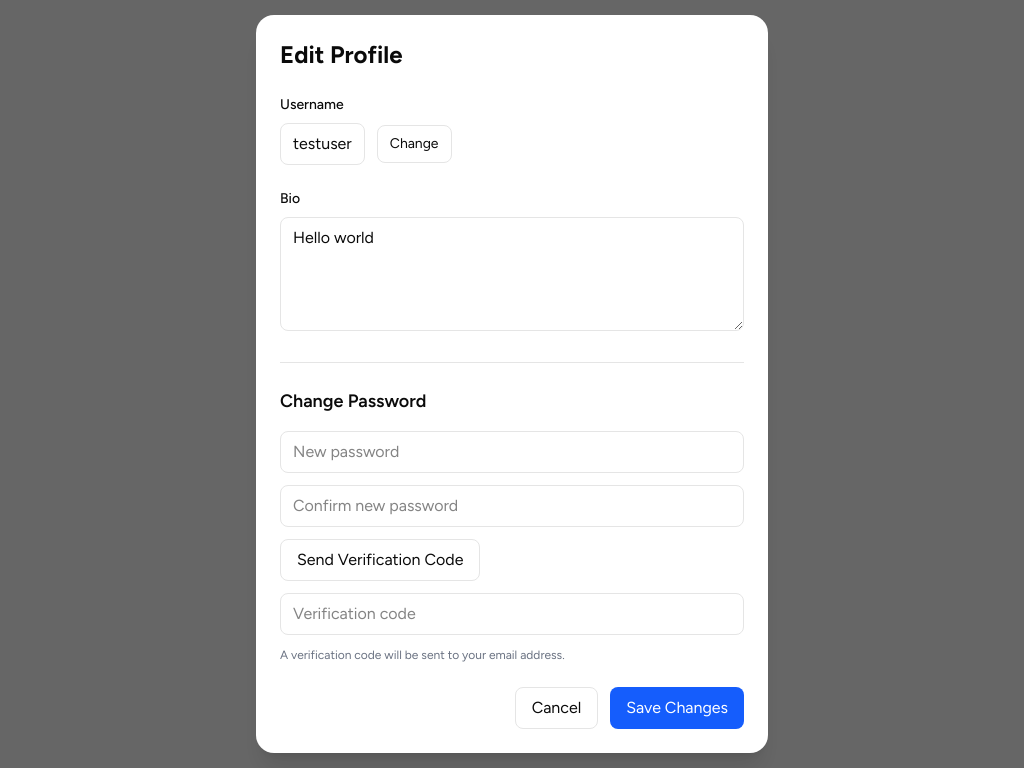
Test: EditProfileModal submit › requires verification code when changing password
In the password field with placeholder "New password": (512, 452) x1=280 y1=431 x2=744 y2=473, type "password123"
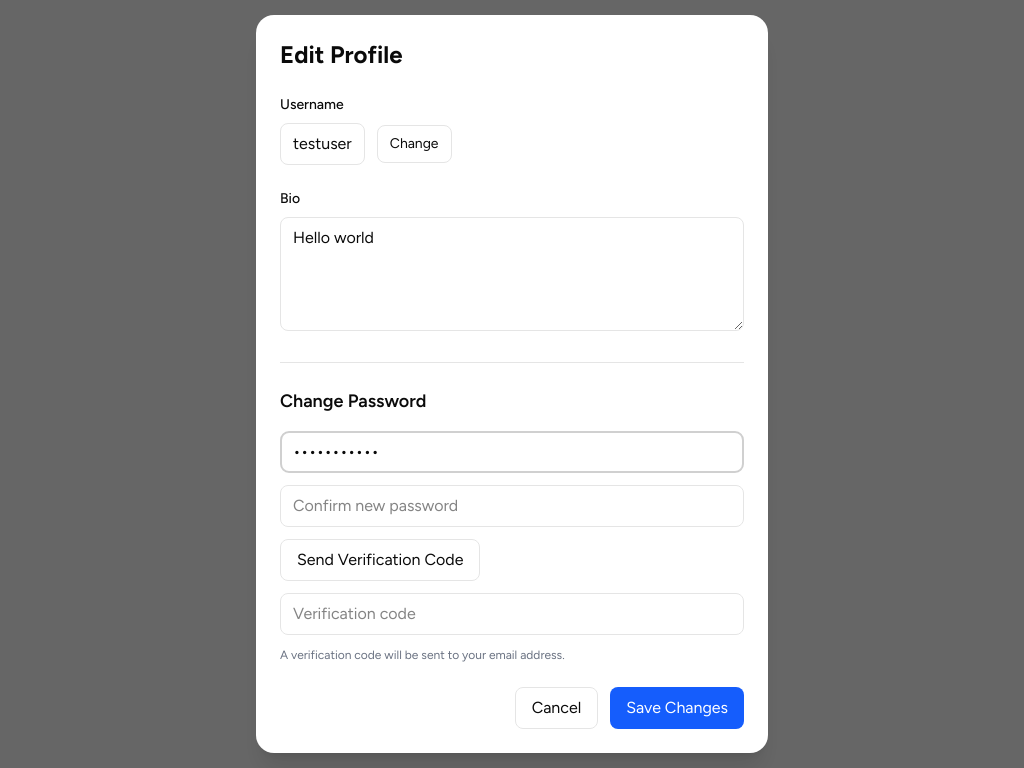
In the password field with placeholder "Confirm new password": (512, 506) x1=280 y1=485 x2=744 y2=527, type "password123"
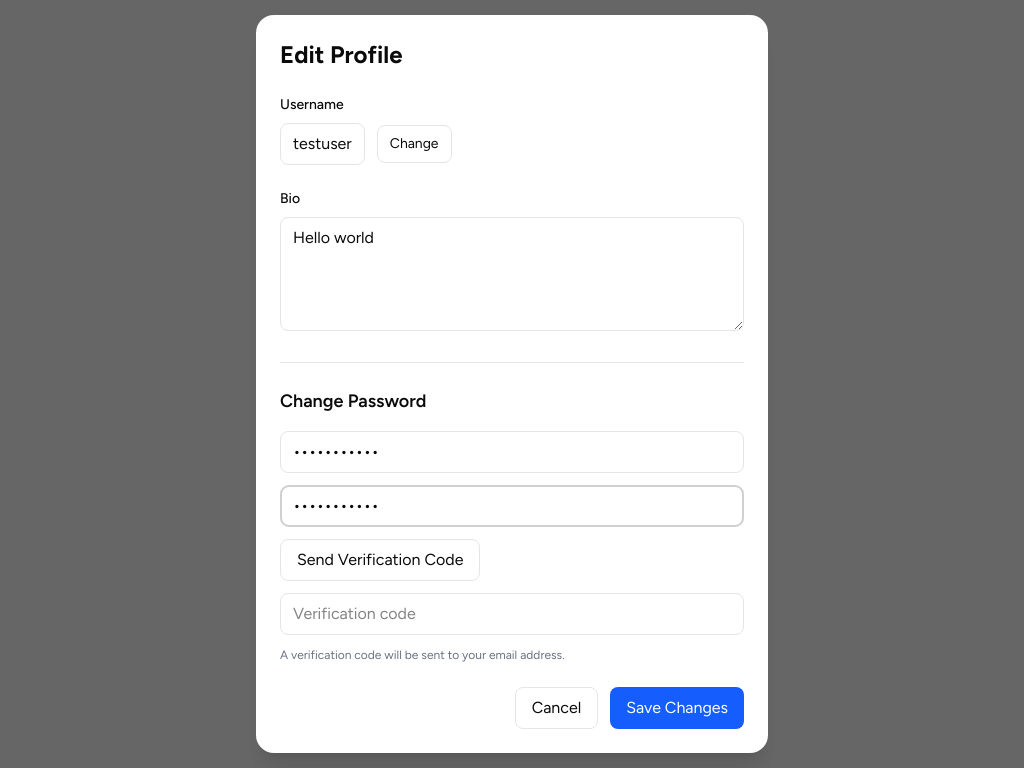
Click the button with test id "save-profile": click(677, 708) x1=610 y1=687 x2=744 y2=729
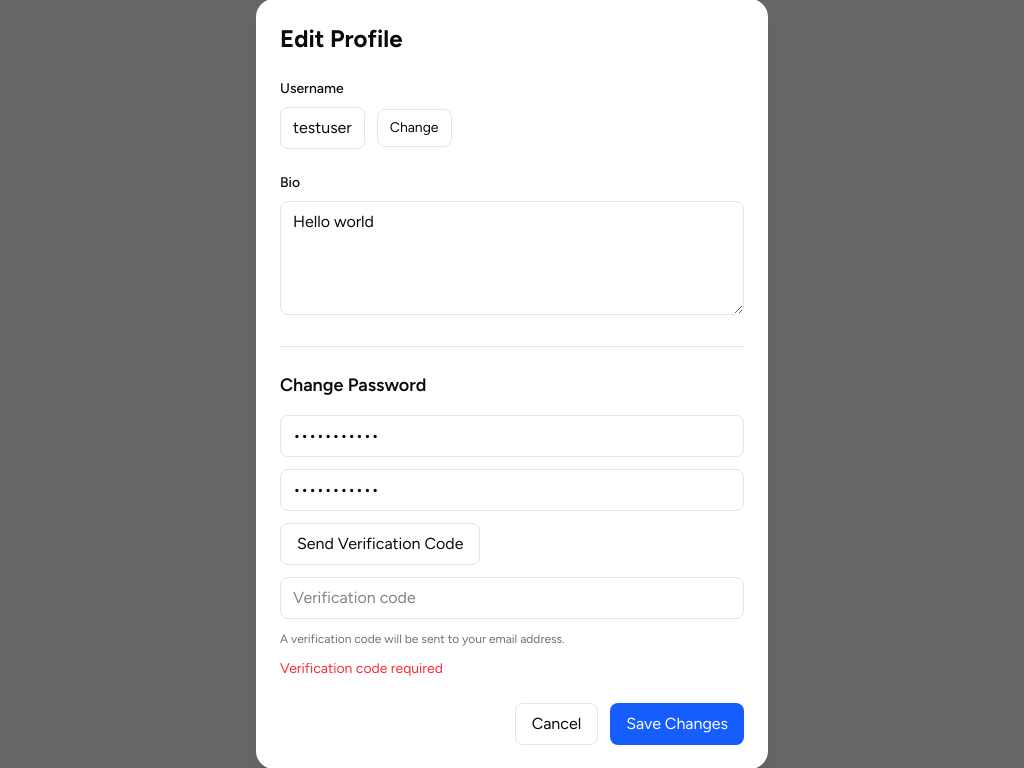
Expected: the text "Verification code required" is shown, x1=280 y1=660 x2=443 y2=677
